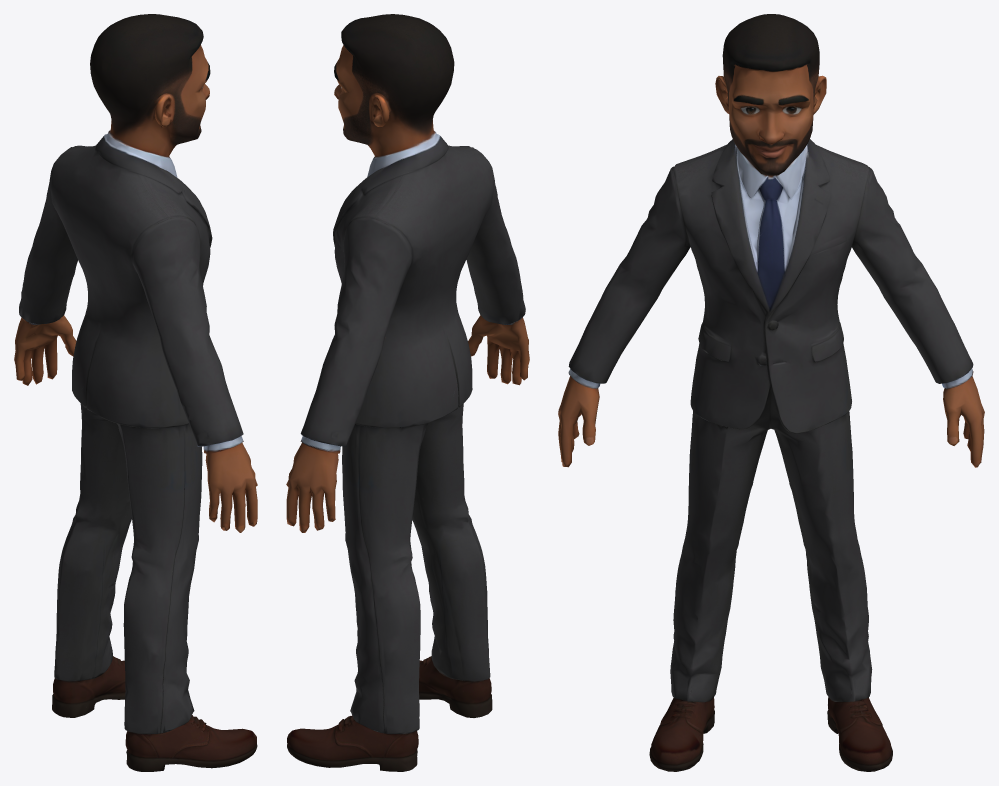
The model's file is gen.glb.
3 views of the same model, side by side, from view 1: azimuth 30°, elevation 25°; view 2: azimuth 150°, elevation 25°; view 3: azimuth 270°, elevation 25° (orthographic). The views are drawn at different scales.
Visible parts, largest first — view 1: tripo_node_2882aba5-6ce3-428e-b830-a977f3471db6; view 2: tripo_node_2882aba5-6ce3-428e-b830-a977f3471db6; view 3: tripo_node_2882aba5-6ce3-428e-b830-a977f3471db6.
Part boxes in pixels (x1,y1,x2,y2): tripo_node_2882aba5-6ce3-428e-b830-a977f3471db6: (14, 14, 257, 771); tripo_node_2882aba5-6ce3-428e-b830-a977f3471db6: (286, 14, 529, 771); tripo_node_2882aba5-6ce3-428e-b830-a977f3471db6: (558, 14, 984, 771).
Size of the model in its own units: 0.1782 by 0.9801 by 0.5231.
1 material, 1 textured.
